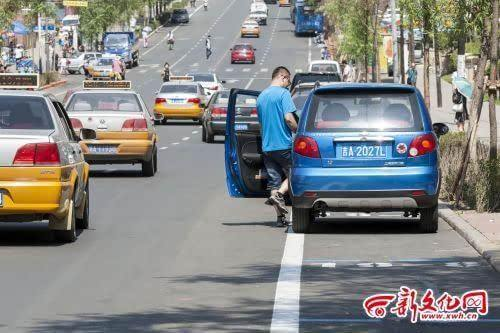slot_nocar: (272, 246, 500, 330), (138, 26, 172, 51)
